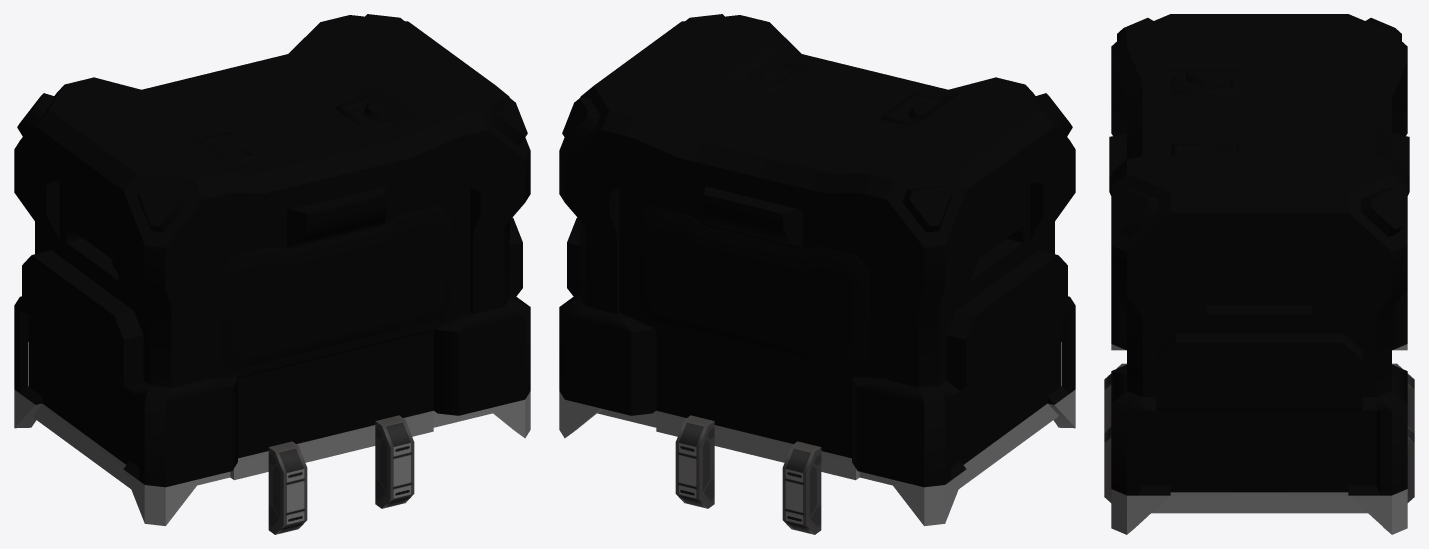
File: storage-2.glb
3 views of the same model, side by side, from view 1: azimuth 30°, elevation 25°; view 2: azimuth 150°, elevation 25°; view 3: azimuth 270°, elevation 25° (orthographic).
Parts seen in each view (by area): view 1: storage-2-b, storage-2-c; view 2: storage-2-b, storage-2-c; view 3: storage-2-b, storage-2-c.
Boxes of the visible parts, x1=… form: storage-2-b: x1=14, y1=14, x2=530, y2=526; storage-2-c: x1=268, y1=415, x2=414, y2=534; storage-2-b: x1=559, y1=14, x2=1075, y2=526; storage-2-c: x1=675, y1=415, x2=821, y2=534; storage-2-b: x1=1109, y1=14, x2=1409, y2=534; storage-2-c: x1=1104, y1=363, x2=1414, y2=502.
Bounding box in the file's own units: 6 × 5.34 × 3.98.
1 material, 1 textured.
